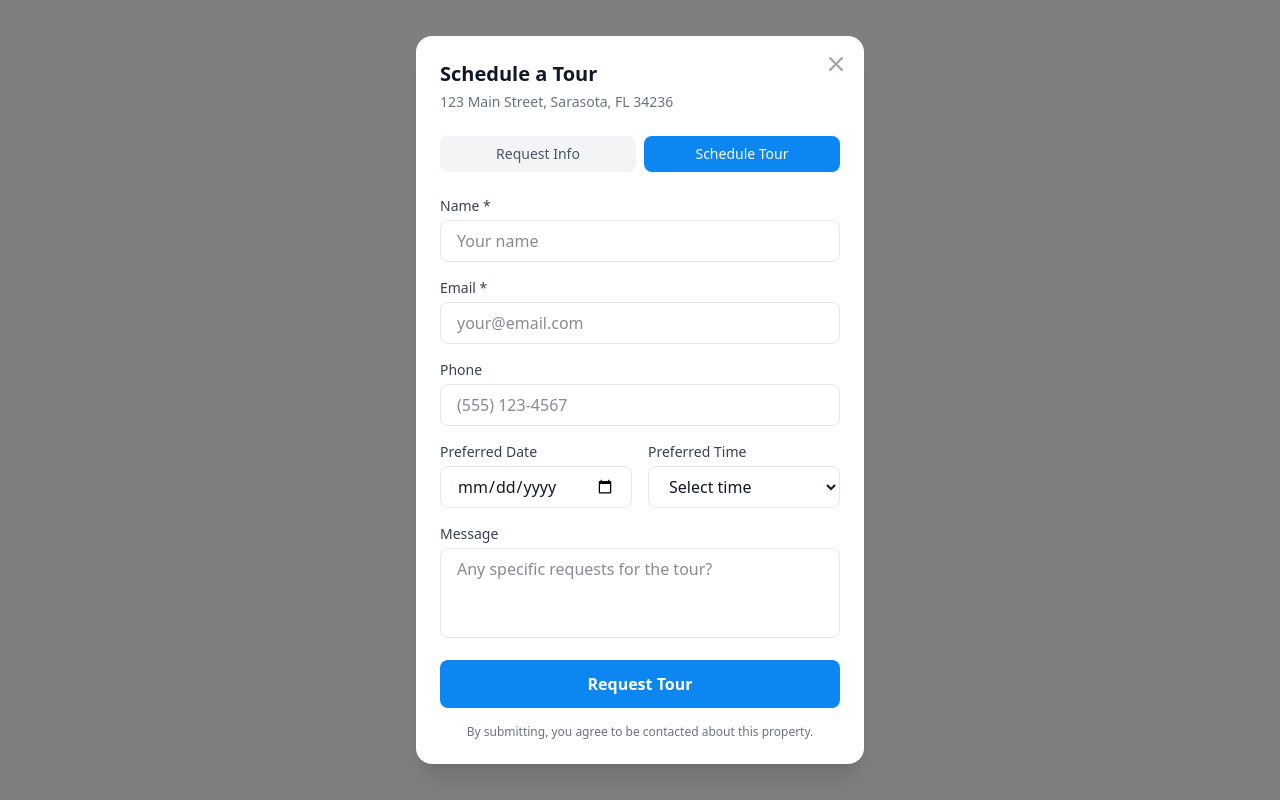
LeadCaptureModal › shows different success message for tour requests
The width and height of the screenshot is (1280, 800).
In the field labelled "Name *": x=640, y=241 [440,220,840,262], type "Jane Doe"
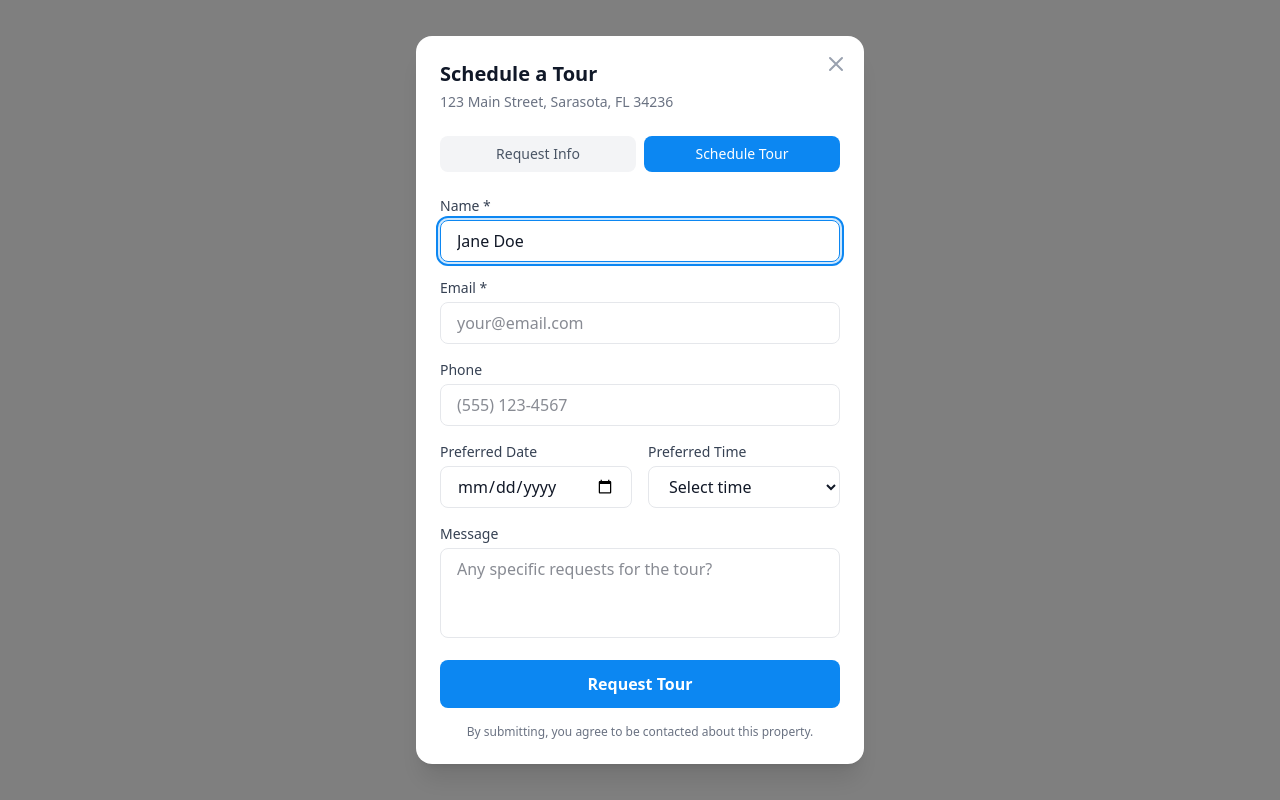
In the field labelled "Email *": x=640, y=323 [440,302,840,344], type "jane@example.com"
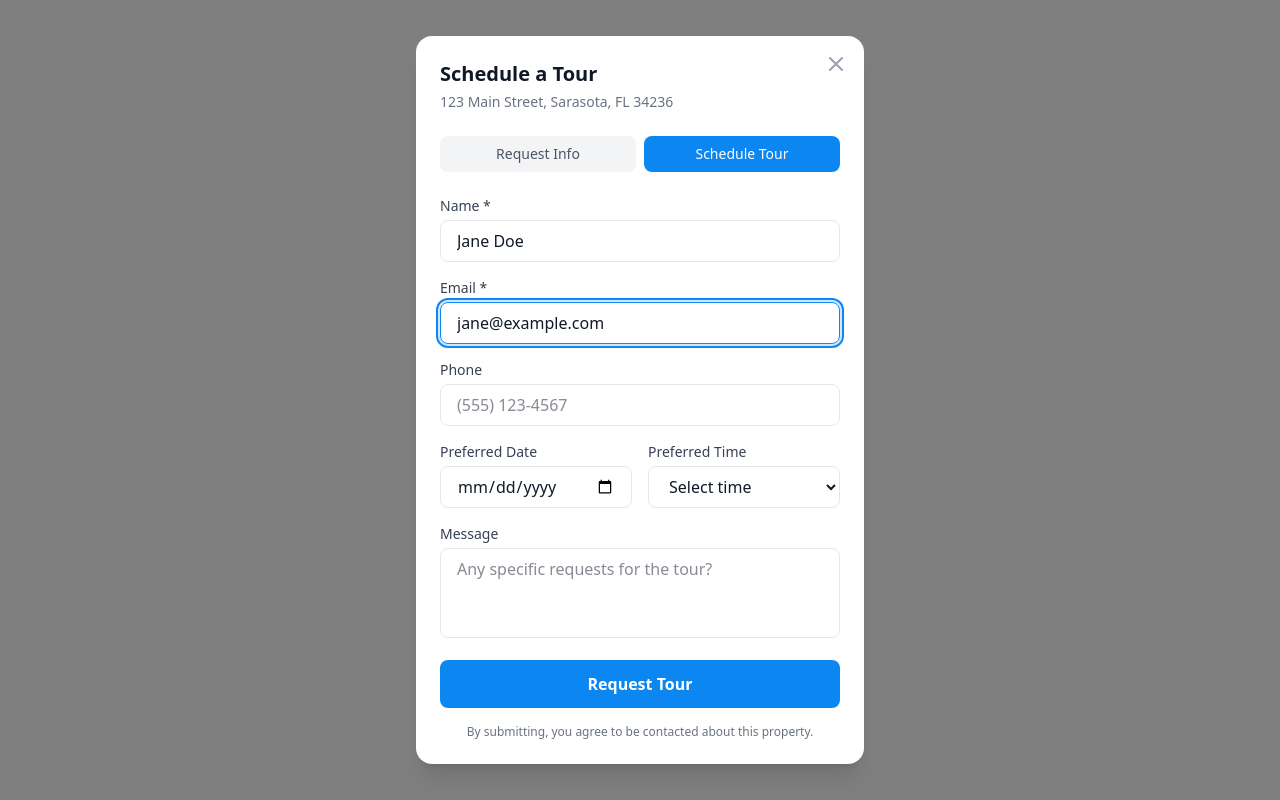
Click the button "Request Tour": x=640, y=684 [440,660,840,708]
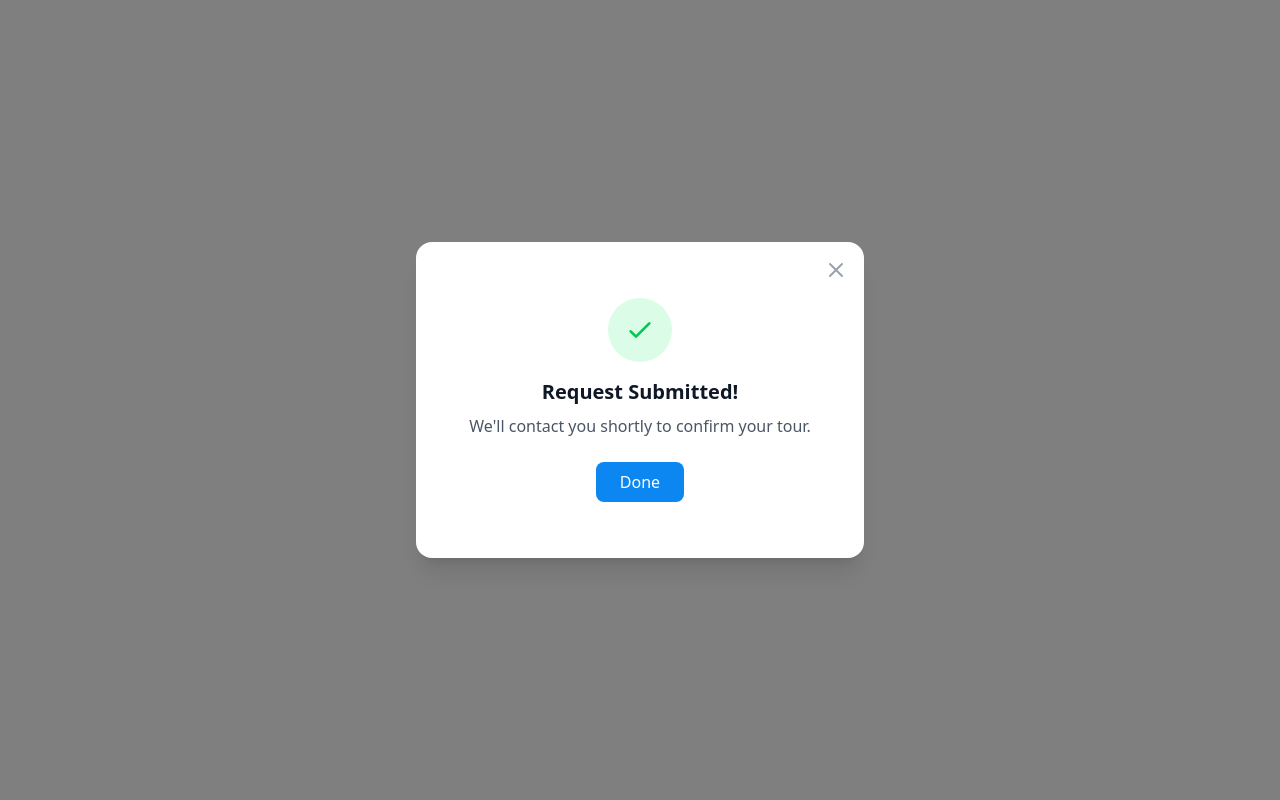
Expected: the text "We'll contact you shortly to confirm your tour." is shown, [440,414,840,438]
